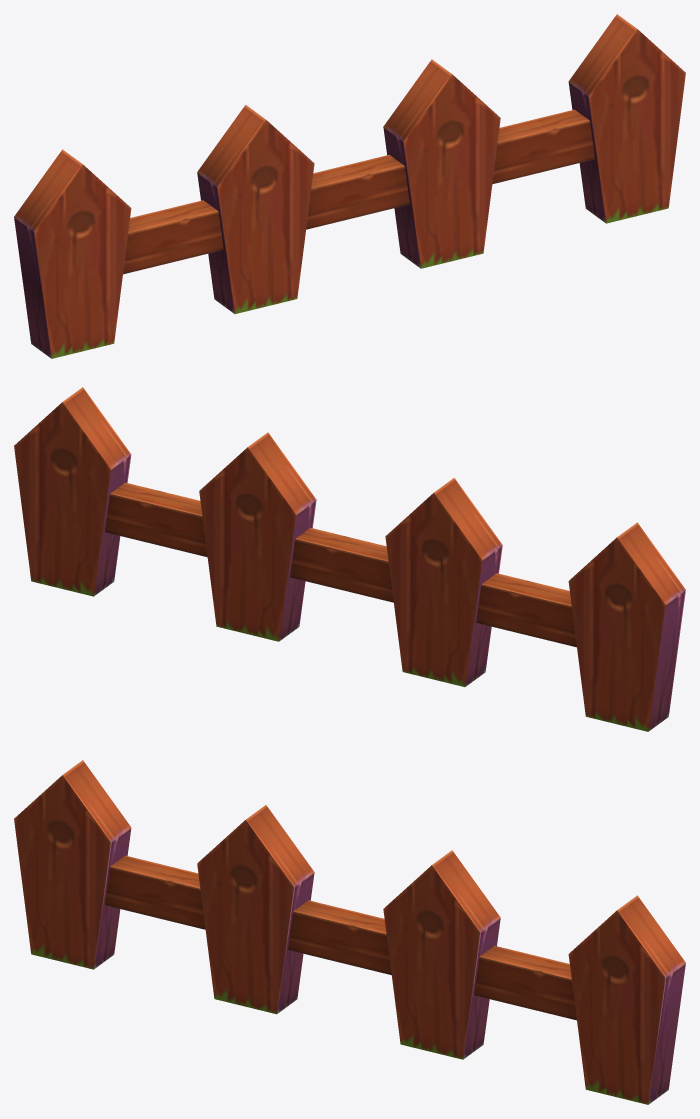
The model's file is scenes_construction_fence02.FBX.
3 views of the same model, one above another, from view 1: azimuth 30°, elevation 25°; view 2: azimuth 150°, elevation 25°; view 3: azimuth 330°, elevation 25° (orthographic).
Visible parts, largest first — view 1: scenes_construction_fence02; view 2: scenes_construction_fence02; view 3: scenes_construction_fence02.
Part boxes in pixels (left/top/right/bottom): scenes_construction_fence02: left=14, top=14, right=685, bottom=358; scenes_construction_fence02: left=14, top=387, right=685, bottom=731; scenes_construction_fence02: left=14, top=760, right=685, bottom=1104.
Bounding box in the file's own units: 1308 × 359 × 71.16.
